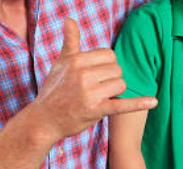clockwise: (45, 14, 159, 134)
